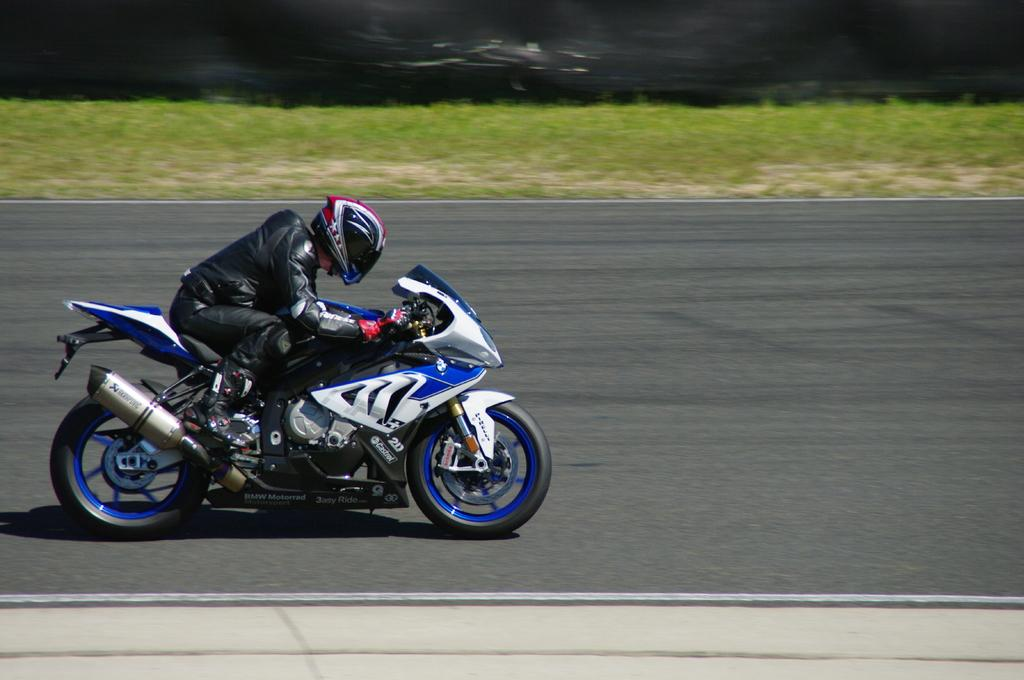helmet: (310, 195, 387, 284)
